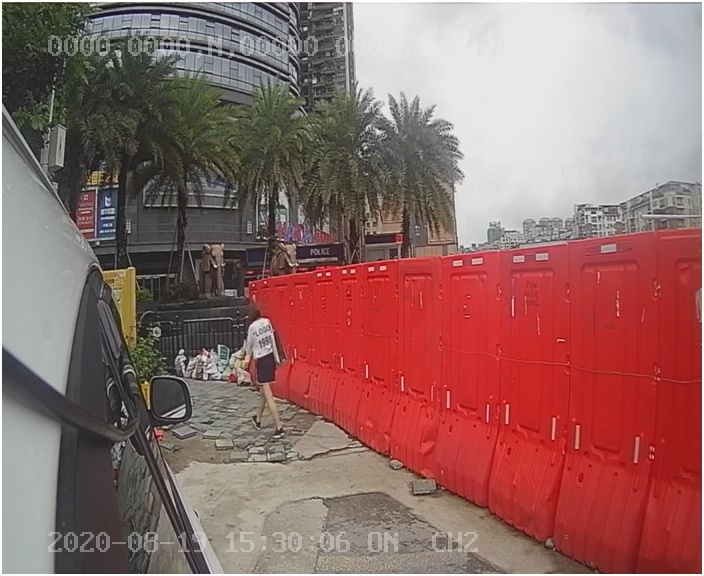person: (232, 306, 302, 441)
